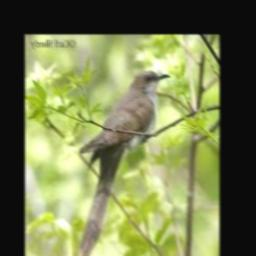Cuckoo: (79, 71, 170, 256)
